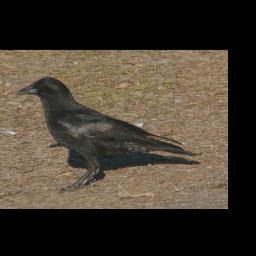Crow: (20, 75, 199, 193)
